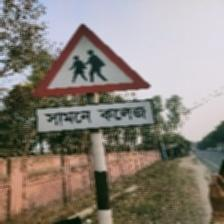College-in-front: (41, 23, 170, 138)
